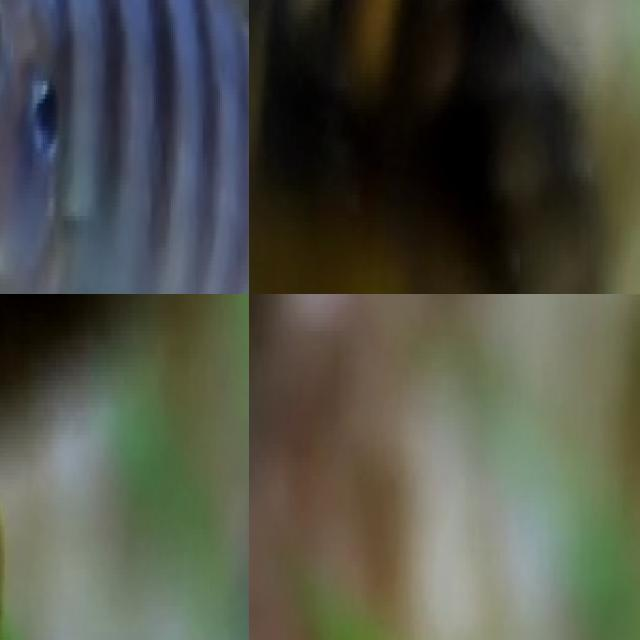fish: (0, 0, 249, 294), (0, 294, 147, 452)
